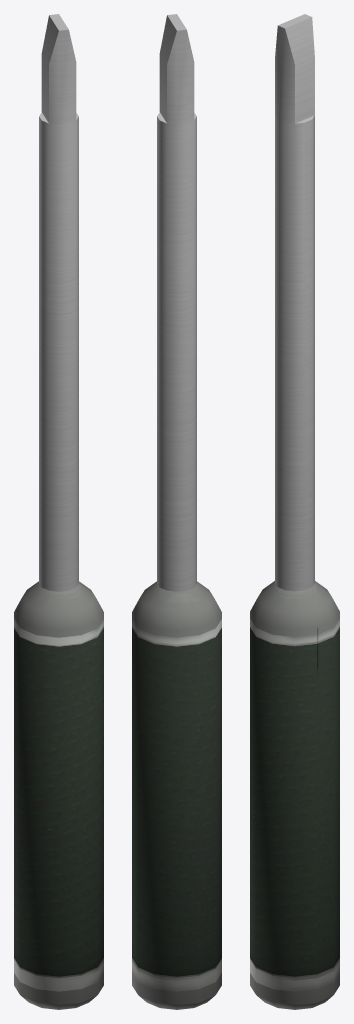
The model's file is screwdriver_2.FBX.
3 views of the same model, side by side, from view 1: azimuth 30°, elevation 25°; view 2: azimuth 210°, elevation 25°; view 3: azimuth 330°, elevation 25° (orthographic).
Parts seen in each view (by area): view 1: screwdriver_2; view 2: screwdriver_2; view 3: screwdriver_2.
Part boxes in pixels (x1=…): screwdriver_2: x1=14, y1=14, x2=103, y2=1009; screwdriver_2: x1=132, y1=14, x2=221, y2=1009; screwdriver_2: x1=250, y1=14, x2=339, y2=1009.
Size of the model in its own units: 23.08 by 277 by 23.08.
Materials: 1 (1 with a texture image).
